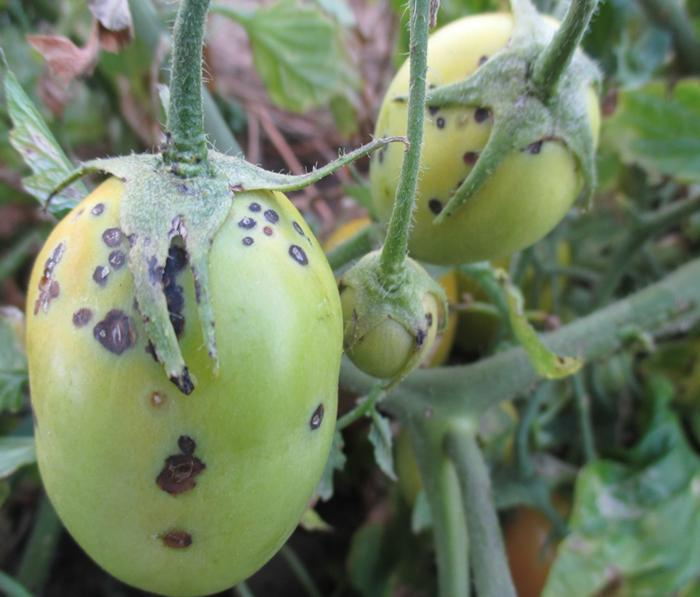tomato bacterial spot: (33, 149, 356, 597), (365, 12, 608, 269)
